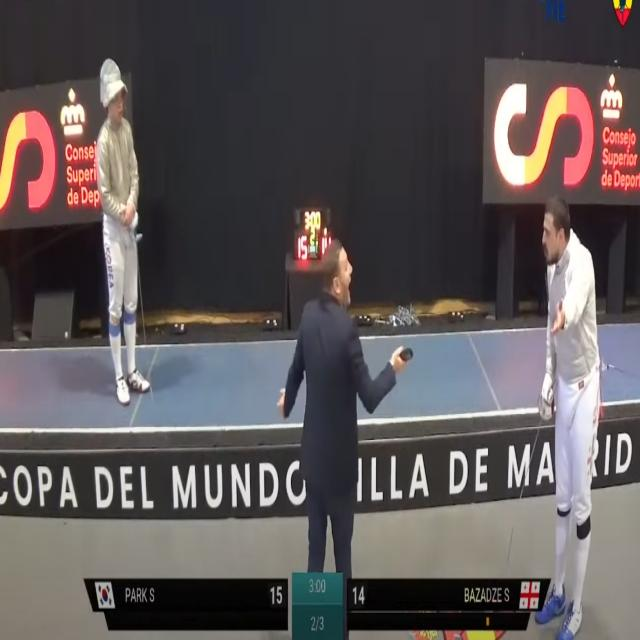fencer: (533, 145, 606, 635), (88, 47, 160, 409)
overlayLeft: (80, 575, 257, 613)
overlayRight: (378, 580, 551, 610)
scoreLeft: (259, 580, 288, 611)
scoreRight: (349, 582, 376, 608)
